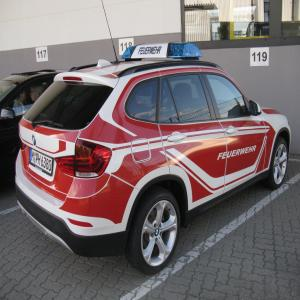Vehicle-registration-plate: (29, 148, 54, 176)
